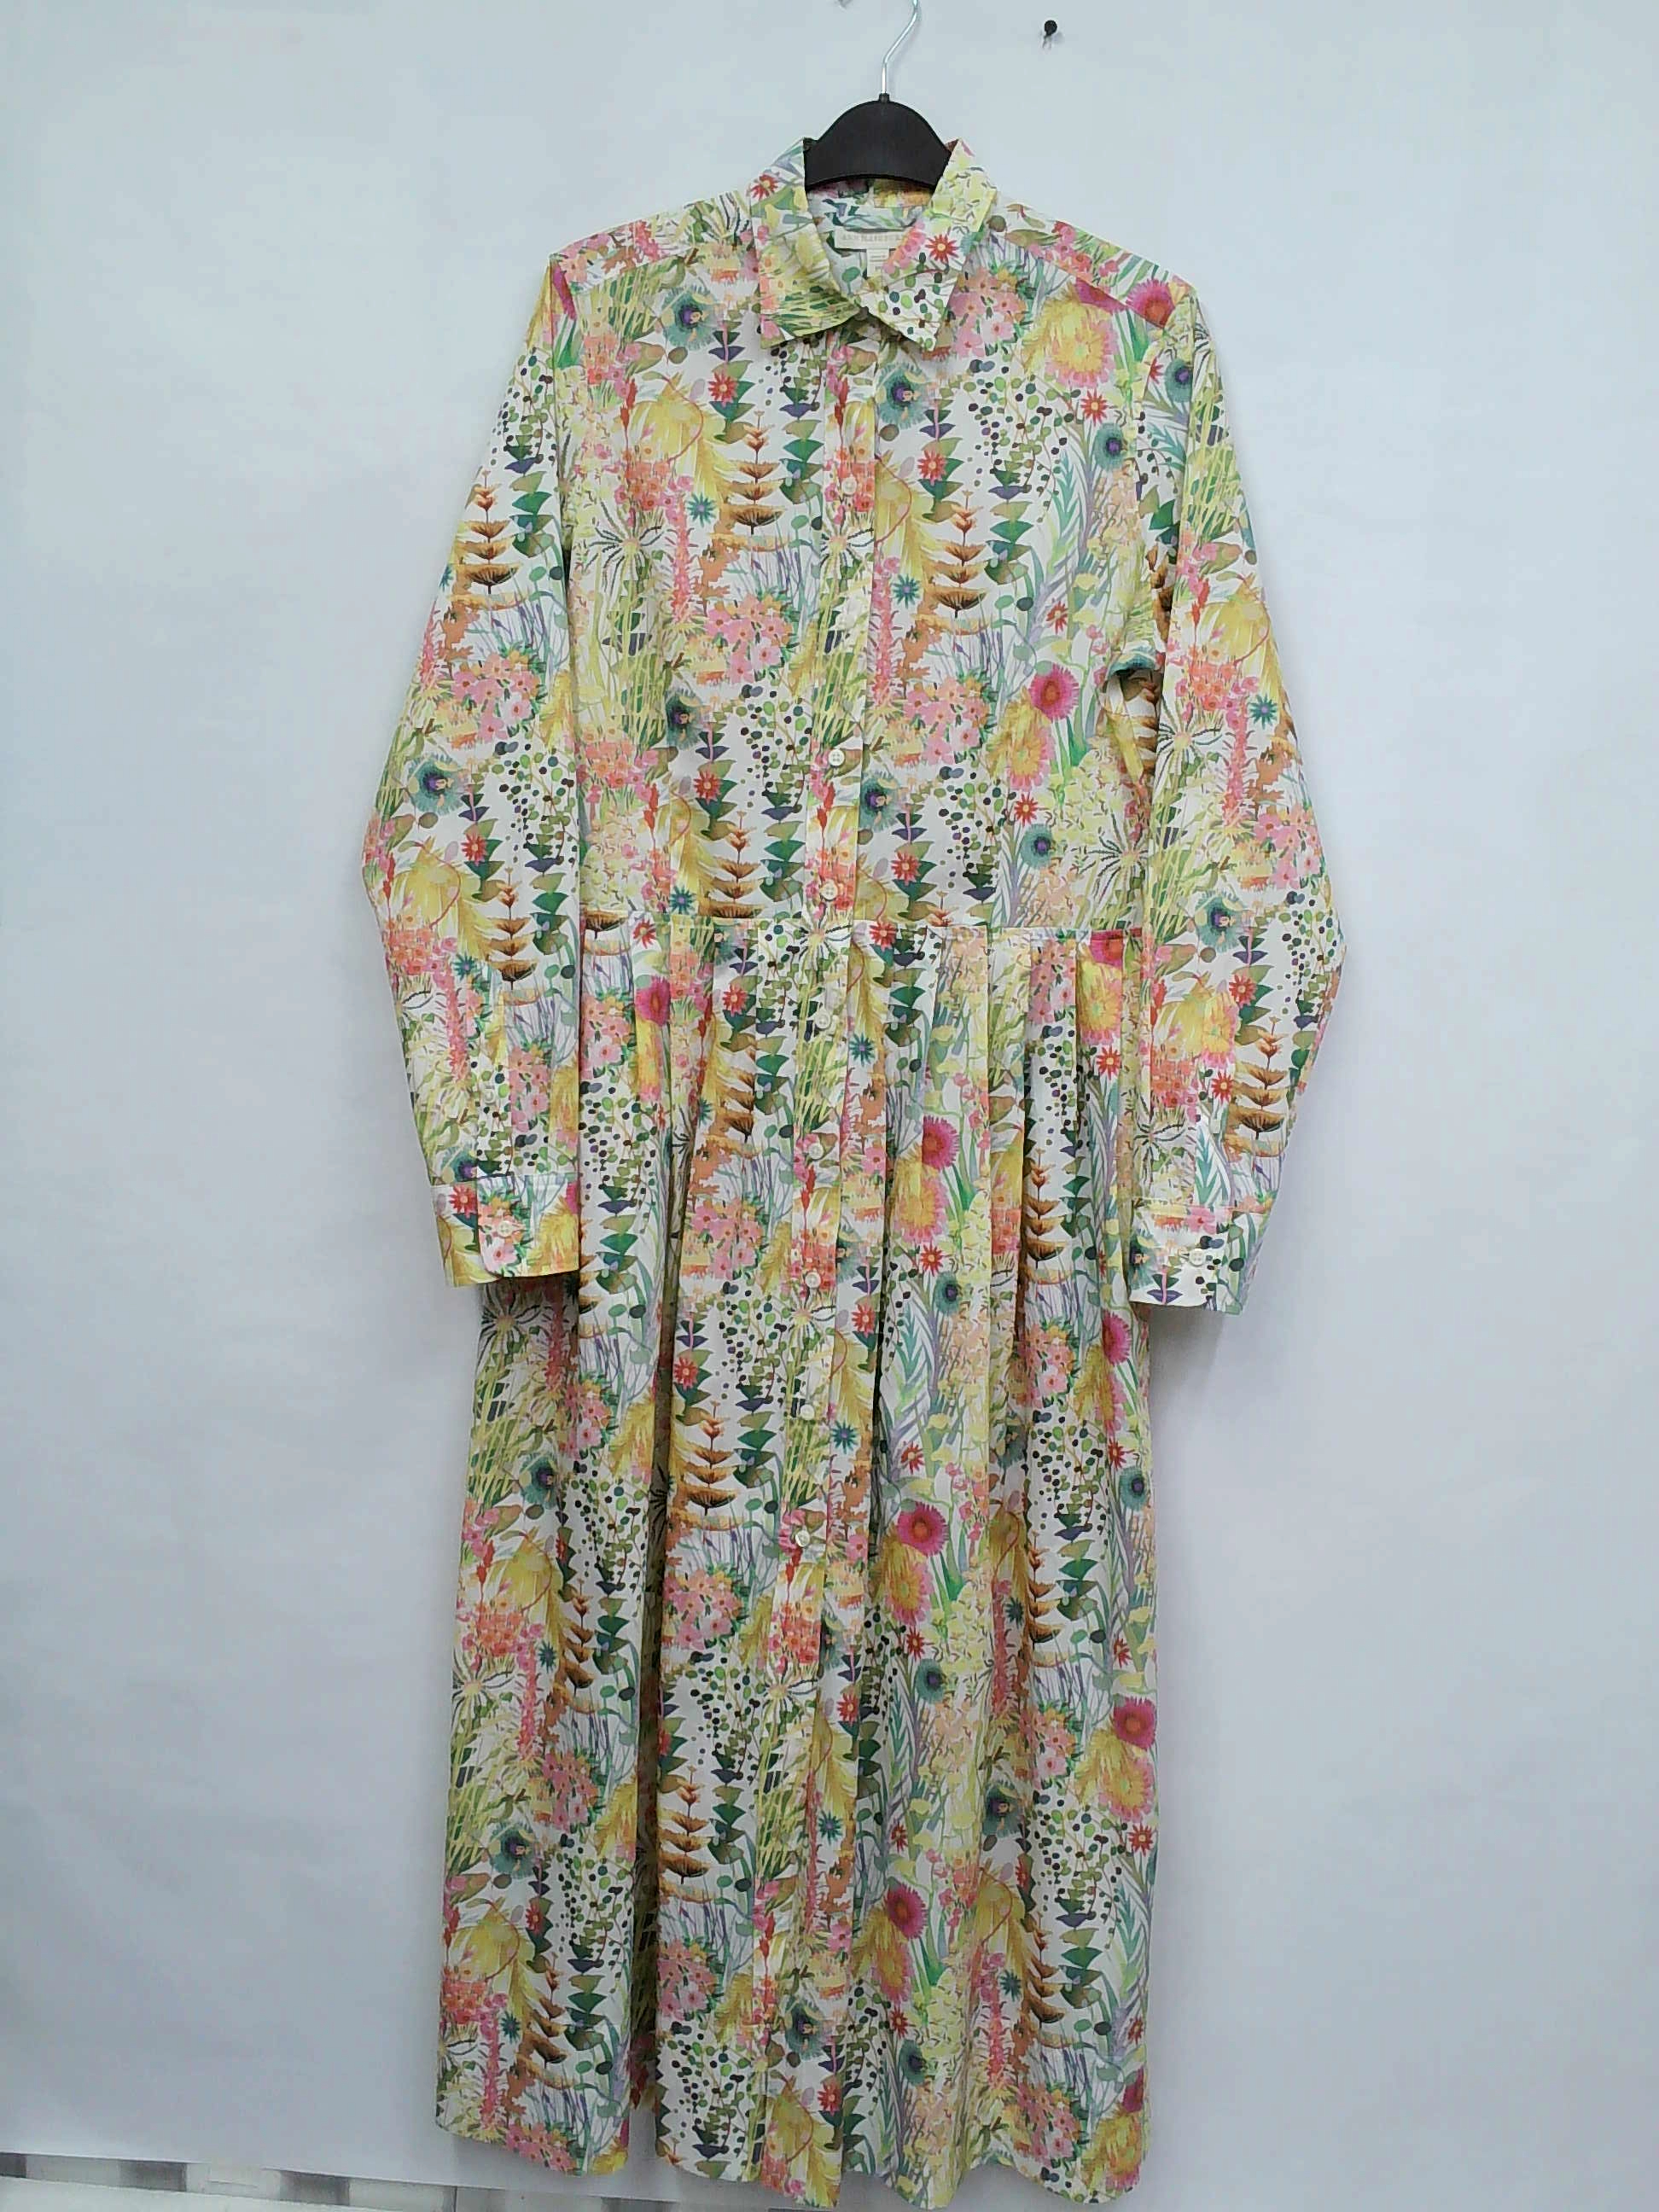structural: (864, 895, 1072, 986)
